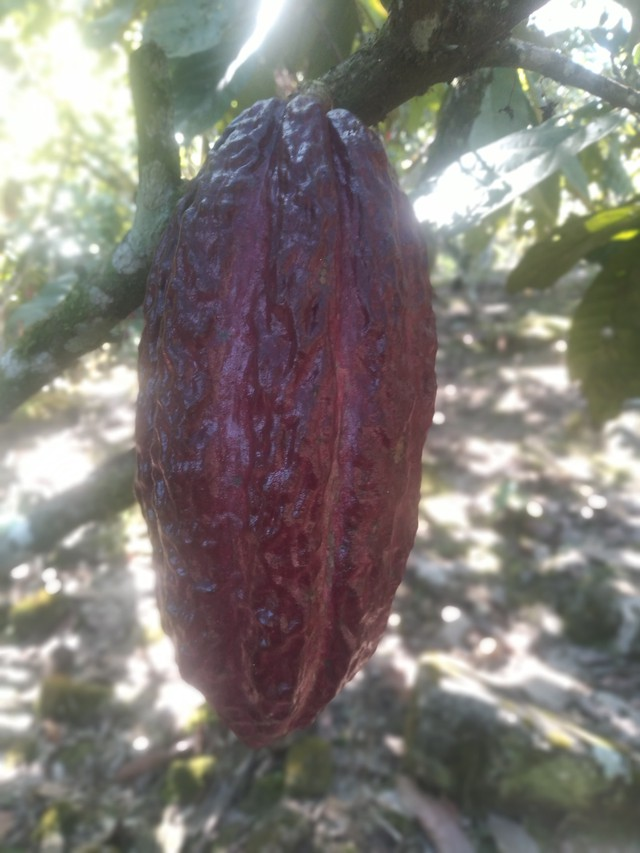Health: (114, 78, 452, 762)
